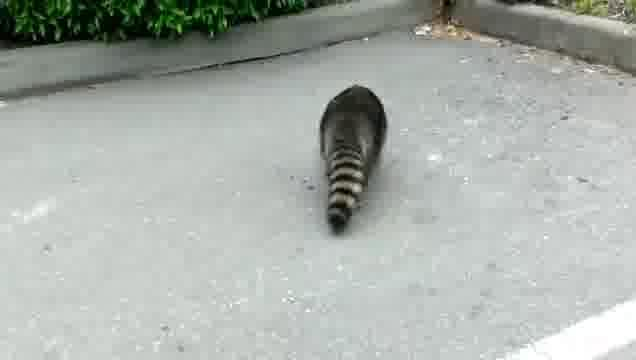raccoon: (319, 85, 388, 235)
